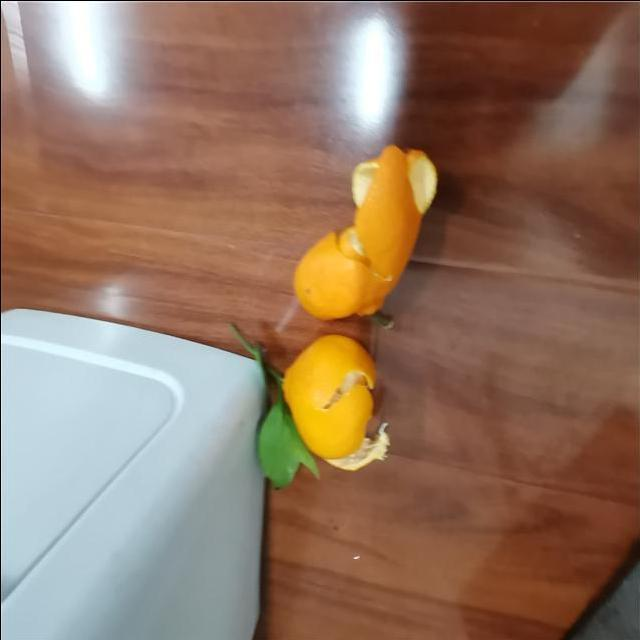orange peel: (284, 135, 472, 325), (247, 330, 415, 480)
